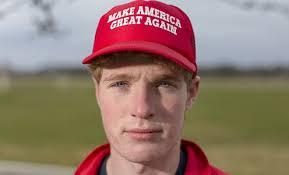cap: (76, 0, 205, 82)
